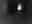person: (17, 4, 24, 15)
